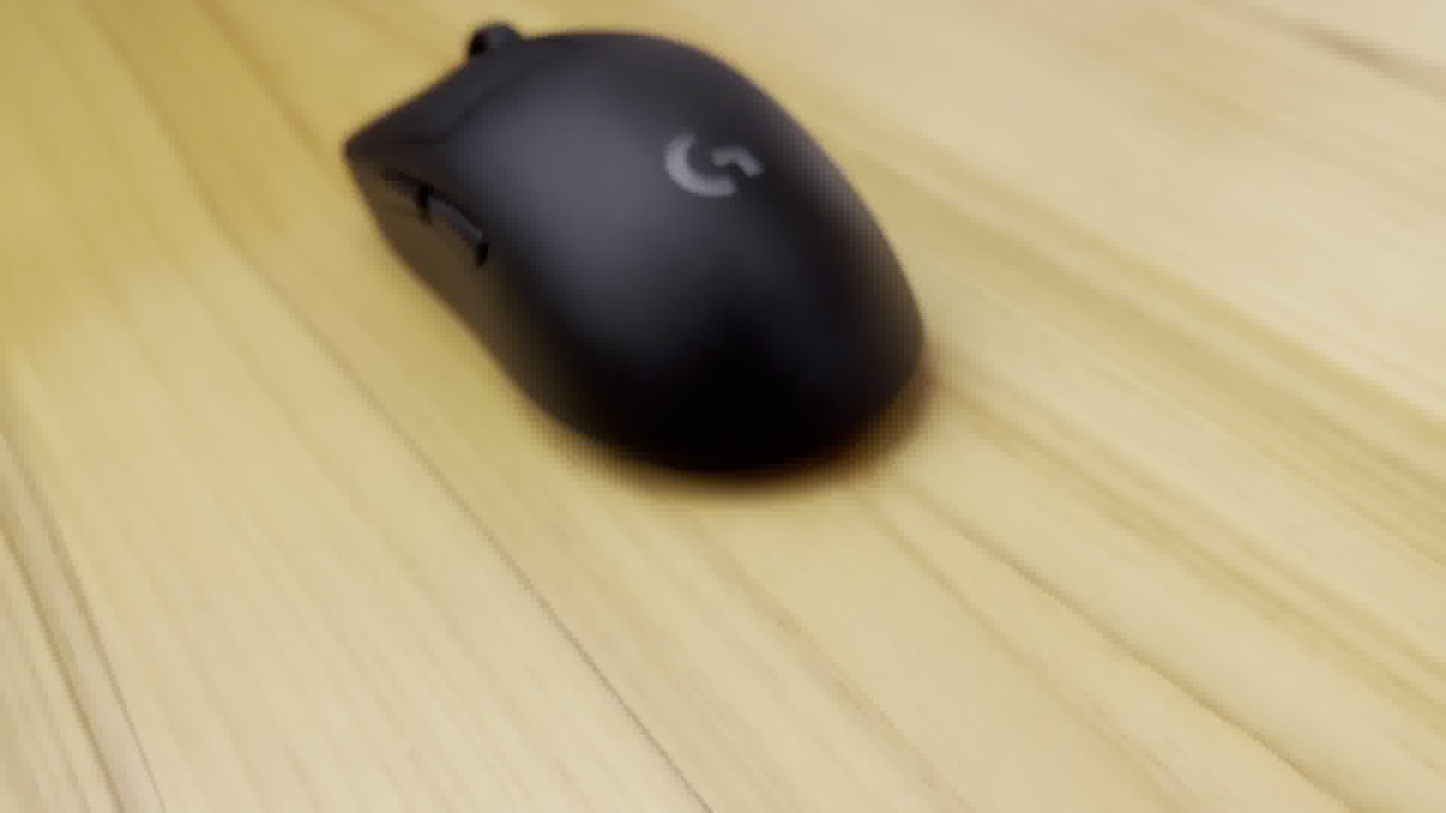logicool: (330, 11, 940, 503)
